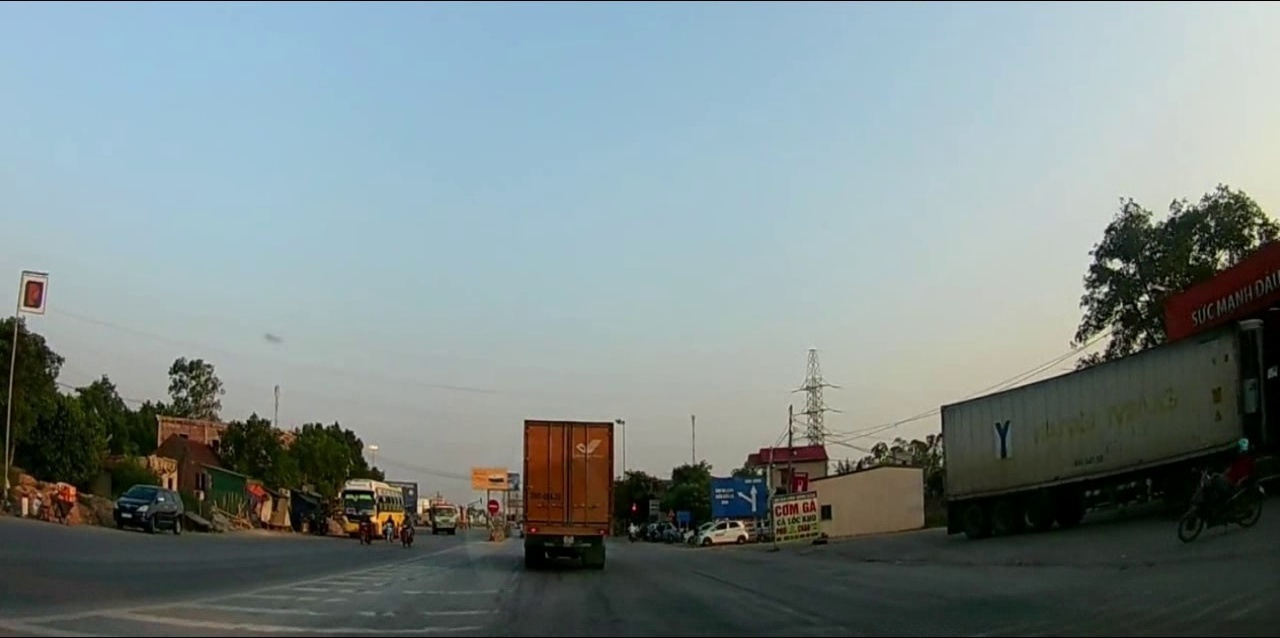Bien khac: (710, 478, 770, 520)
Cam di nguoc chieu: (486, 499, 499, 514)
